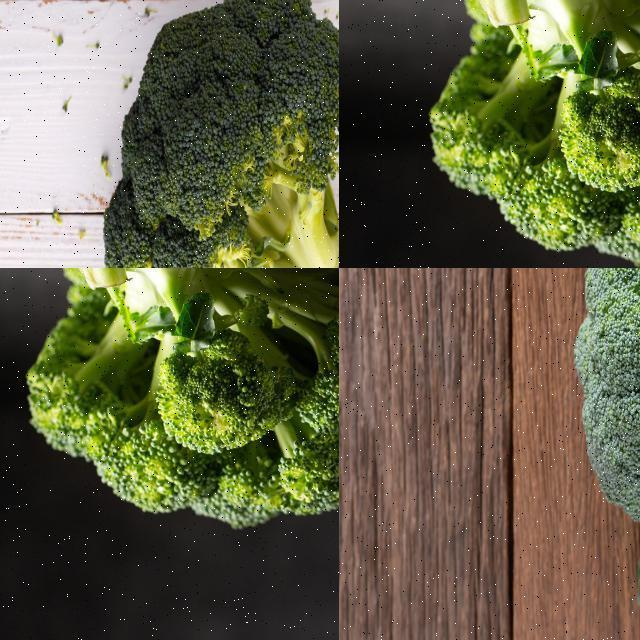broccoli: (6, 268, 338, 535), (96, 0, 338, 267), (409, 0, 639, 267), (559, 268, 639, 561)
